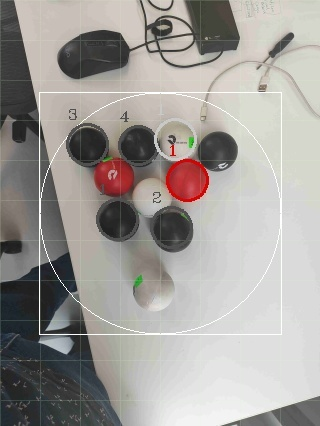Pelota blanca: (143, 0, 241, 70), (103, 238, 174, 315), (228, 0, 294, 61), (271, 44, 320, 118), (153, 118, 201, 160), (196, 129, 238, 171), (129, 177, 166, 216)
Pelota negra: (55, 28, 131, 81), (148, 204, 193, 254), (66, 121, 110, 168), (95, 198, 139, 243), (116, 124, 158, 168), (196, 129, 238, 171)
Pelota roja: (164, 156, 211, 203), (92, 156, 134, 198)
